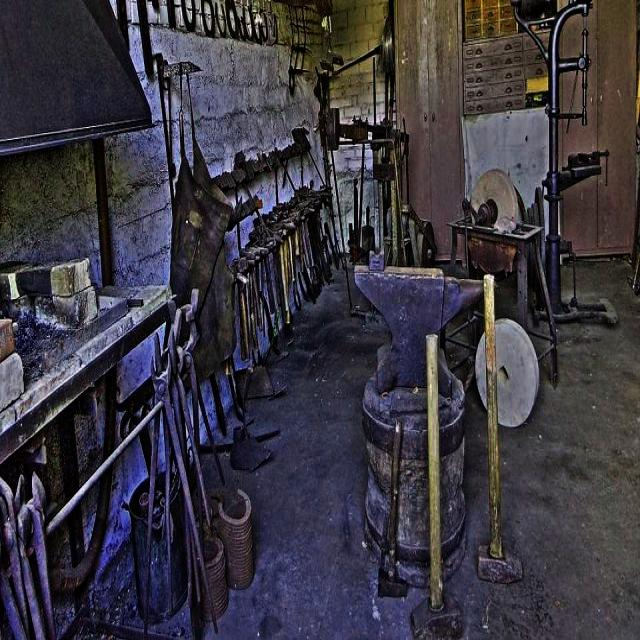hammer: (408, 324, 468, 640), (476, 268, 526, 596)
